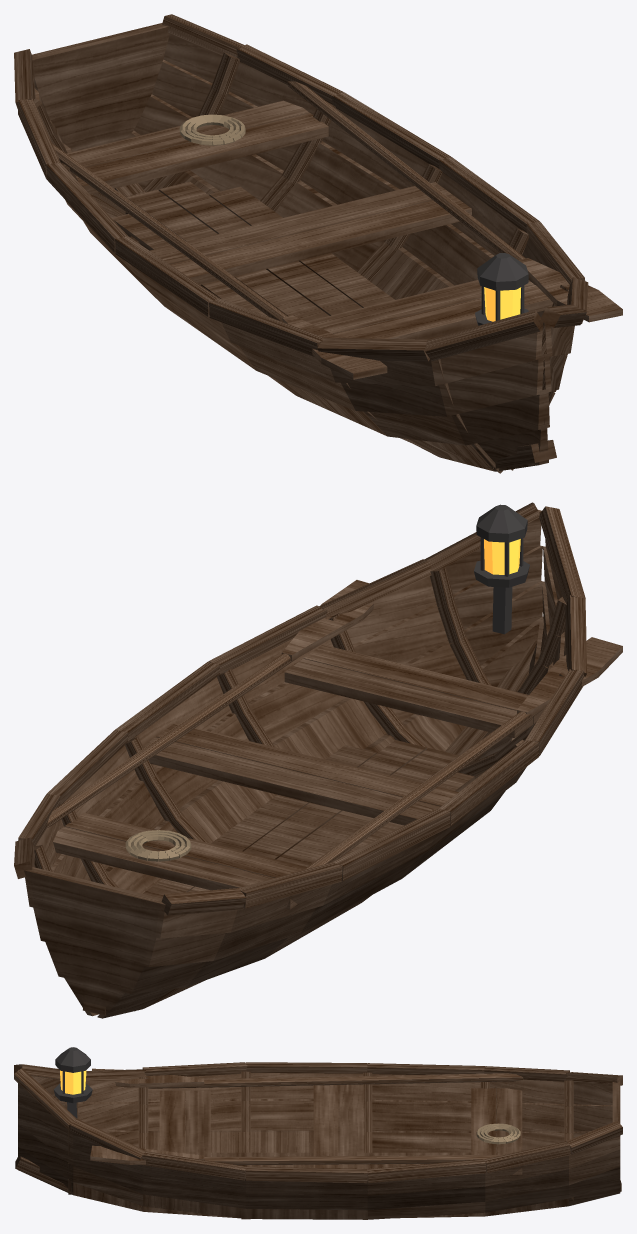
File: skiff.glb
3 views of the same model, one above another, from view 1: azimuth 30°, elevation 25°; view 2: azimuth 150°, elevation 25°; view 3: azimuth 270°, elevation 25° (orthographic). The views are drawn at different scales.
Visible parts, largest first — view 1: skiff; view 2: skiff; view 3: skiff.
Boxes of the visible parts, bbox=[...] form: skiff: bbox=[14, 14, 622, 473]; skiff: bbox=[14, 502, 622, 1018]; skiff: bbox=[14, 1047, 622, 1219].
Bounding box in the file's own units: 1.37 × 0.9797 × 3.21.
Materials: 4 (1 with a texture image).
